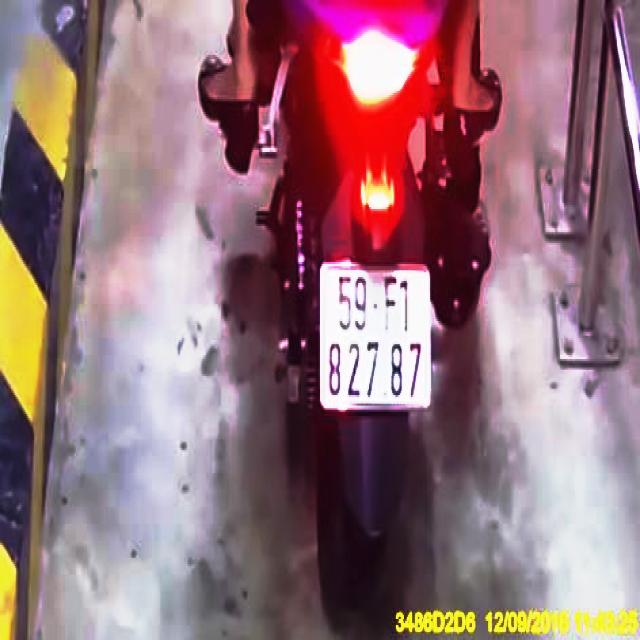license_plate: (325, 262, 430, 408)
